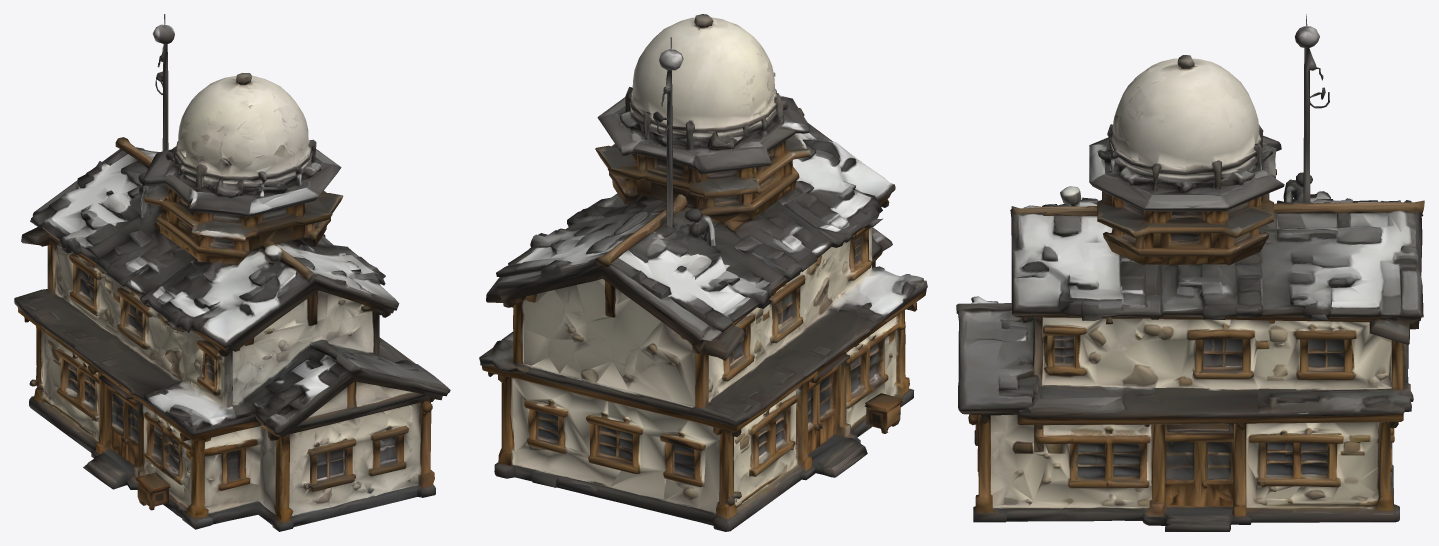
File: bld_obs_lab.fbx
3 renders of one model, left to right at view 1: azimuth 30°, elevation 25°; view 2: azimuth 150°, elevation 25°; view 3: azimuth 270°, elevation 25°, orthographic. The views are drawn at different scales.
Parts seen in each view (by area): view 1: bld_obs_lab_LOD0; view 2: bld_obs_lab_LOD0; view 3: bld_obs_lab_LOD0.
Part boxes in pixels (left/top/right/bottom): bld_obs_lab_LOD0: left=14, top=14, right=450, bottom=531; bld_obs_lab_LOD0: left=479, top=14, right=927, bottom=531; bld_obs_lab_LOD0: left=956, top=14, right=1424, bottom=531.
Size of what is drawn, in the model's own units: 0.6527 by 0.9815 by 0.9397.
